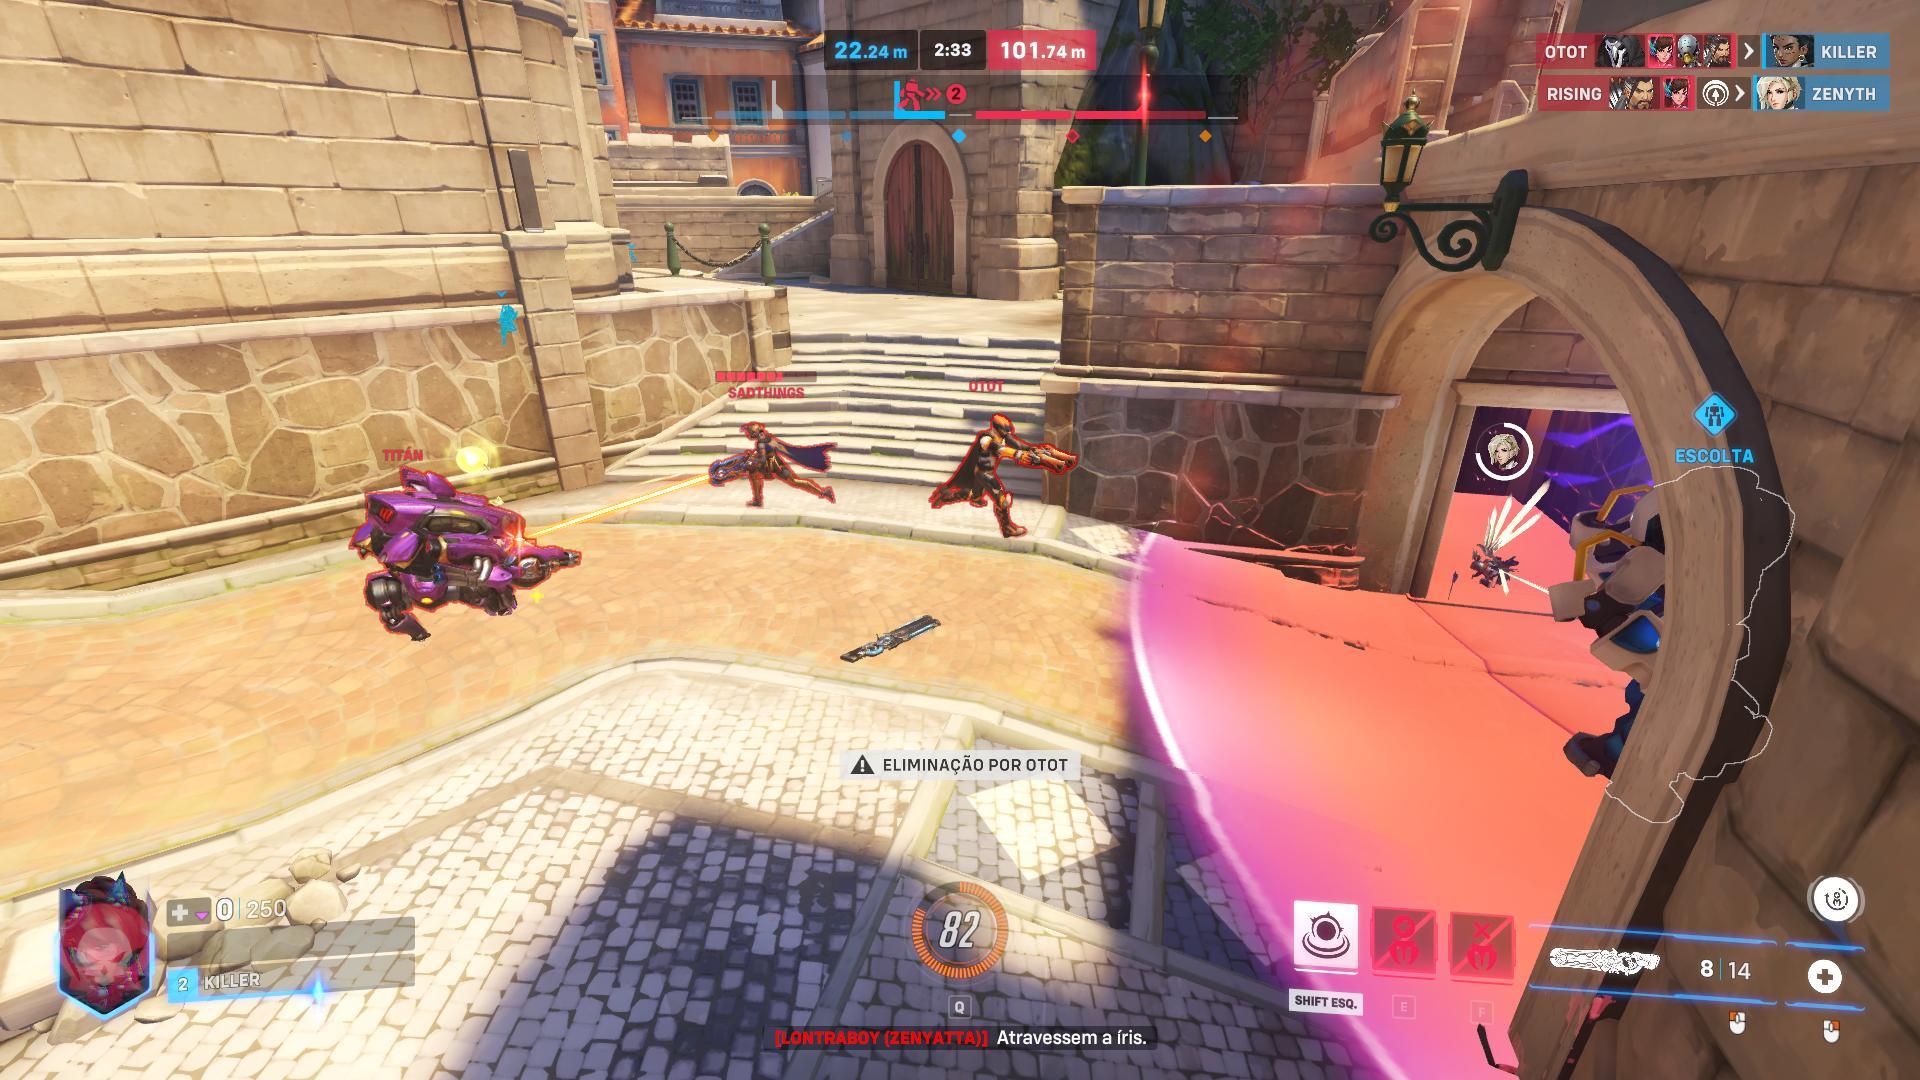enemy: (375, 464, 516, 642), (931, 414, 1029, 538), (740, 422, 836, 509)
